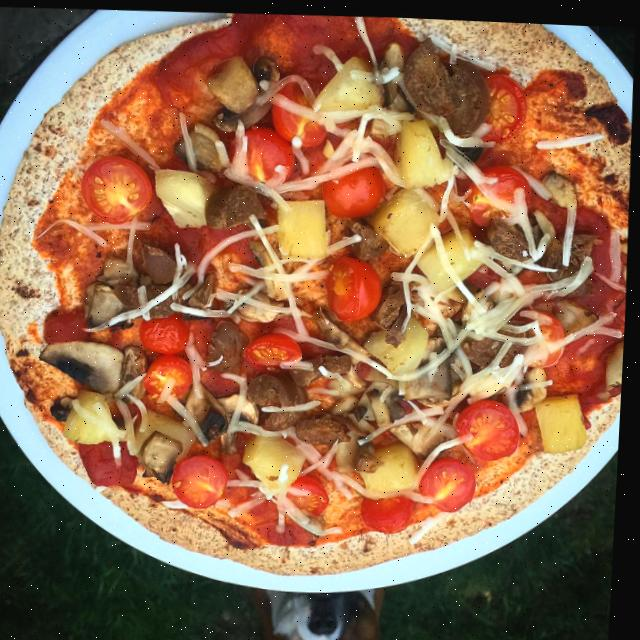mushrooms: (200, 49, 283, 133), (39, 337, 130, 396), (406, 330, 460, 399), (314, 306, 377, 361), (216, 386, 263, 452), (186, 377, 234, 440), (173, 118, 228, 171), (85, 277, 138, 330), (139, 426, 189, 482), (513, 358, 553, 411), (232, 283, 287, 321), (365, 384, 408, 423), (380, 36, 405, 103), (606, 331, 627, 387)
pizza: (0, 0, 640, 587)
tomatoes: (77, 151, 158, 225), (269, 70, 330, 146), (457, 391, 526, 457), (469, 157, 535, 223), (327, 248, 388, 319), (228, 120, 298, 181), (320, 156, 387, 217), (475, 67, 529, 140), (419, 450, 484, 510), (174, 449, 233, 508), (517, 301, 570, 363), (244, 327, 308, 370), (362, 488, 421, 531), (145, 352, 198, 398), (139, 310, 193, 353), (287, 471, 334, 516)
